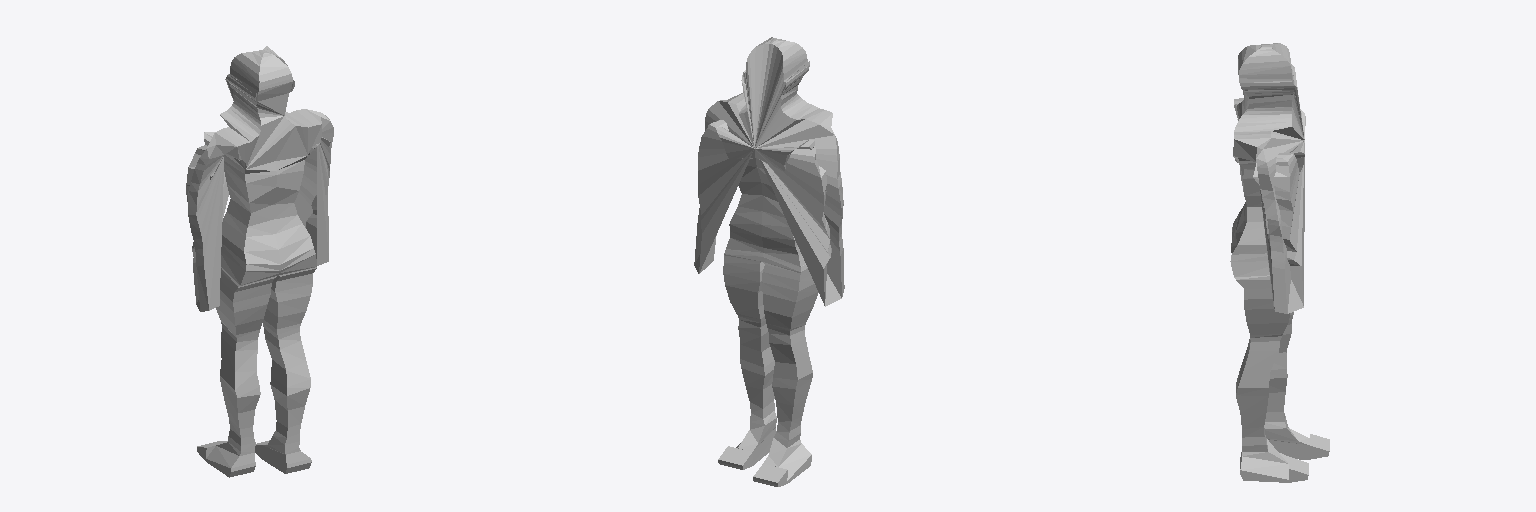
File: woman_000004.obj
3 renders of one model, left to right at view 1: azimuth 30°, elevation 25°; view 2: azimuth 150°, elevation 25°; view 3: azimuth 270°, elevation 25°, orthographic.
Parts seen in each view (by area): view 1: Cube_Cube.001; view 2: Cube_Cube.001; view 3: Cube_Cube.001.
Boxes of the visible parts, x1,y1,x2,y2 form: Cube_Cube.001: [186, 46, 333, 477]; Cube_Cube.001: [694, 37, 844, 486]; Cube_Cube.001: [1230, 43, 1329, 482].
Bounding box in the file's own units: 3.52 × 9.95 × 2.13.